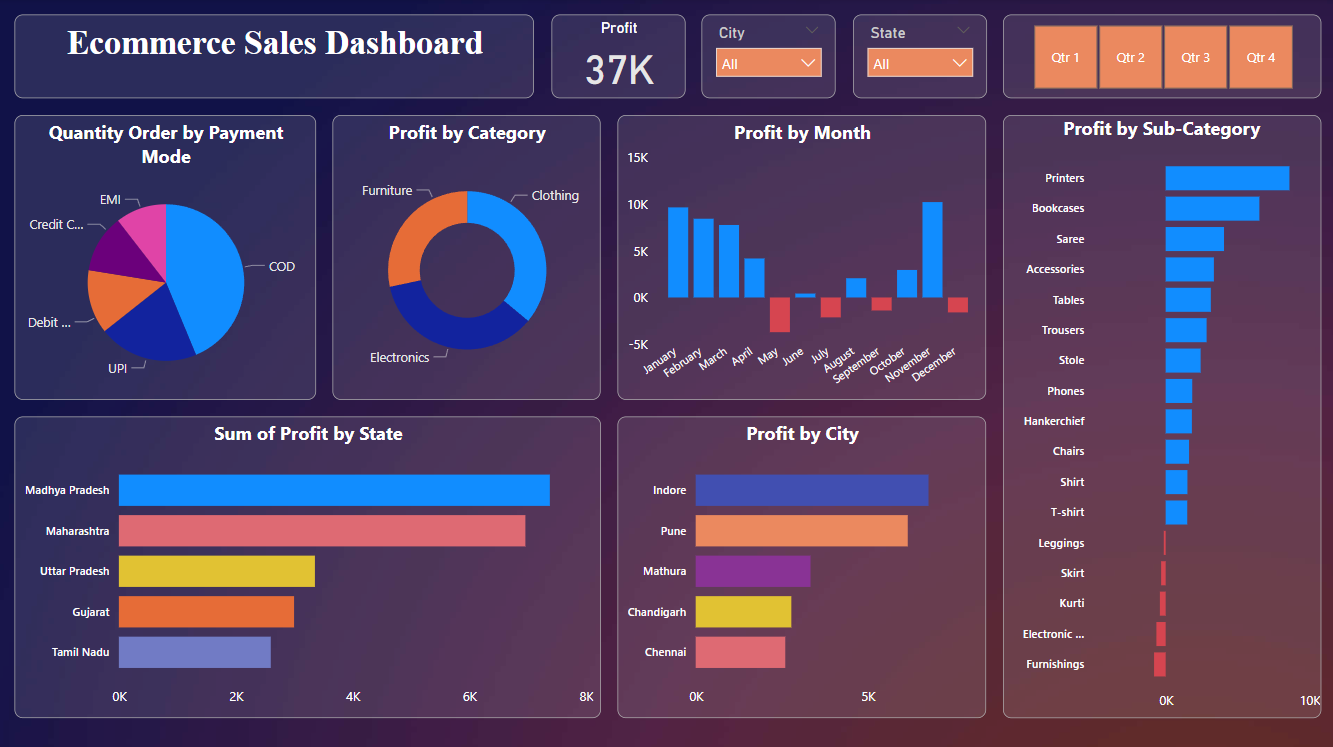

This screenshot's page, from the dashboard's own definition file:
{"tool":"powerbi","page":{"name":"Sales Dashboard","canvas":[1280,720],"ordinal":0},"visuals":[{"type":"clusteredColumnChart","fields":{"Y":["Sum(Details.Profit)"],"Category":["Orders.Order Date.Variation.Date Hierarchy.Month"]},"box":[685,117.6,581.7,243.2],"z":0},{"type":"clusteredBarChart","fields":{"Category":["Orders.State"],"Y":["Sum(Details.Profit)"]},"box":[681.9,378.3,584.9,300.4],"z":1000},{"type":"donutChart","fields":{"Category":["Details.Category"],"Y":["Sum(Details.Profit)"]},"box":[316.3,117.6,344.9,243.2],"z":2000},{"type":"pieChart","title":"Quantity Order by Payment Mode","fields":{"Category":["Details.PaymentMode"],"Y":["Sum(Details.Quantity)"]},"box":[0,117.1,283.2,243.5],"z":3000},{"type":"clusteredBarChart","fields":{"Category":["Orders.City"],"Y":["Sum(Details.Profit)"]},"box":[0,377.6,662.7,300.2],"z":4000},{"type":"slicer","fields":{"Values":["Orders.Order Date.Variation.Date Hierarchy.Quarter"]},"box":[626.2,9.5,427.5,90.6],"z":5000},{"type":"slicer","fields":{"Values":["Orders.City"]},"box":[1053.5,9.4,213.3,90.6],"z":6000},{"type":"textbox","box":[35.9,9.4,519.2,90.6],"z":7000}]}

Visuals, with their boxes in screenshot pixels (x1, y1, x2, y2), scaled from the page's 1280x720 canvas onto the 1333x747 screenshot:
clusteredColumnChart - Sum(Details.Profit) x Orders.Order Date.Variation.Date Hierarchy.Month: Rect(713, 122, 1319, 374)
clusteredBarChart - Orders.State x Sum(Details.Profit): Rect(710, 392, 1319, 704)
donutChart - Details.Category x Sum(Details.Profit): Rect(329, 122, 689, 374)
"Quantity Order by Payment Mode" pieChart: Rect(0, 121, 295, 374)
clusteredBarChart - Orders.City x Sum(Details.Profit): Rect(0, 392, 690, 703)
slicer - Orders.Order Date.Variation.Date Hierarchy.Quarter: Rect(652, 10, 1097, 104)
slicer - Orders.City: Rect(1097, 10, 1319, 104)
textbox: Rect(37, 10, 578, 104)
